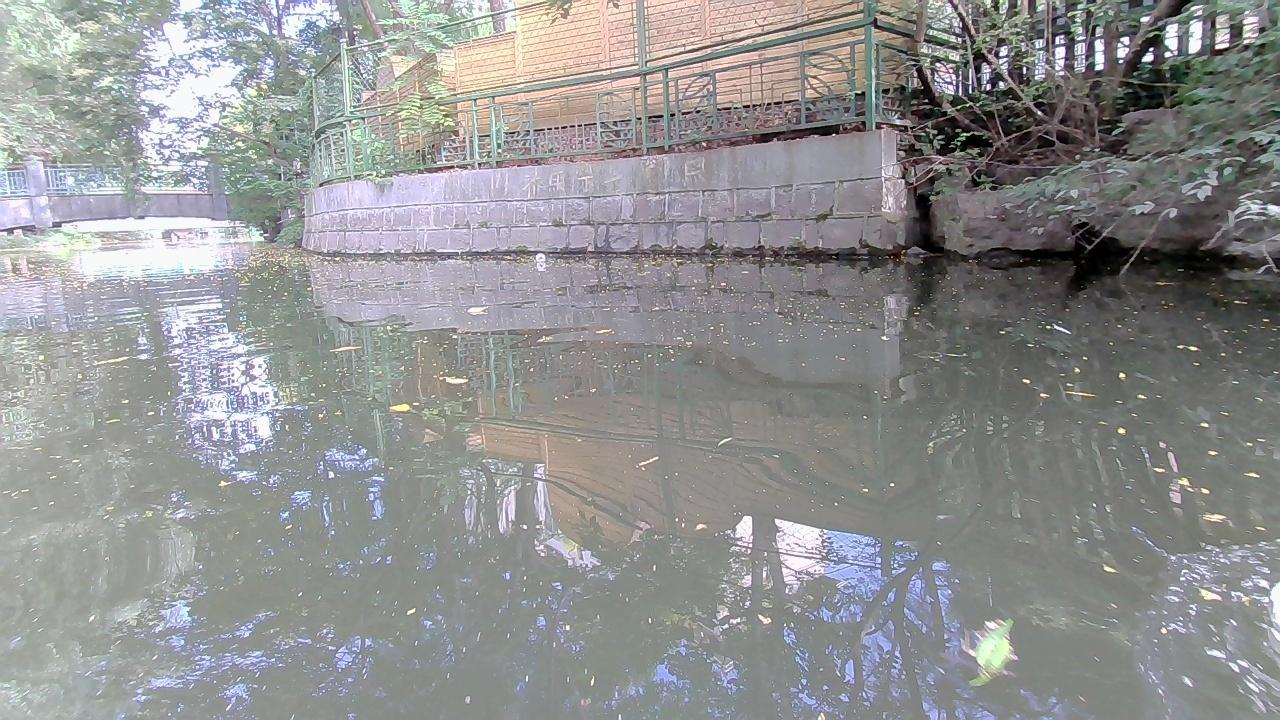bottle: (532, 251, 547, 260)
